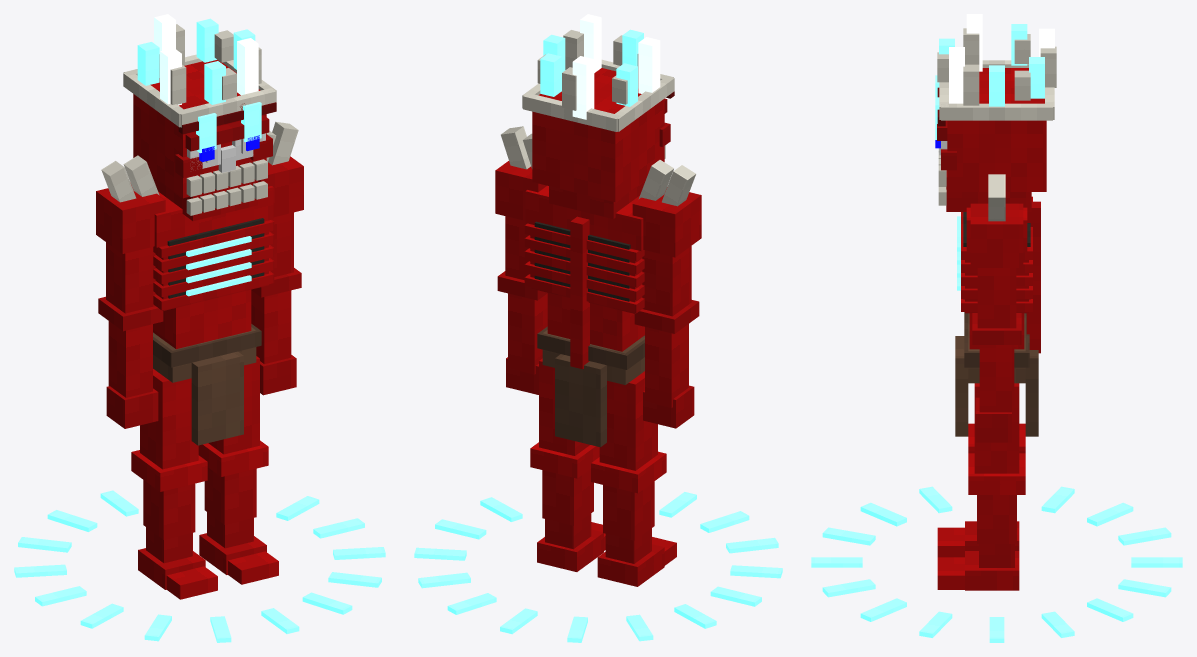
Rendered from undead_s0_evo3.glb.
3 views of the same model, side by side, from view 1: azimuth 30°, elevation 25°; view 2: azimuth 150°, elevation 25°; view 3: azimuth 270°, elevation 25° (orthographic).
Parts seen in each view (by area): view 1: Head, Torso, ArmR, LegR, LegL, ArmL, Root; view 2: Torso, Head, ArmR, LegR, LegL, ArmL, Root; view 3: Head, ArmL, LegL, Torso, Root, LegR.
Boxes of the visible parts, x1,y1,x2,y2 form: Head: (123,14,276,220); Torso: (153,186,274,445); ArmR: (96,155,165,428); LegR: (131,369,217,599); LegL: (198,356,278,584); ArmL: (251,121,303,395); Root: (14,490,385,642); Torso: (524,185,644,447); Head: (522,14,674,218); ArmR: (632,160,701,428); LegR: (591,371,676,586); LegL: (530,358,605,571); ArmL: (495,126,547,394); Root: (414,492,782,642); Head: (935,14,1056,211); ArmL: (970,174,1023,442); LegL: (937,383,1025,590); Torso: (955,196,1040,436); Root: (811,486,1182,642); LegR: (937,423,1025,557).
Bounding box in the file's own units: 1.16 × 1.82 × 1.16.
Materials: 24 (24 with a texture image).
